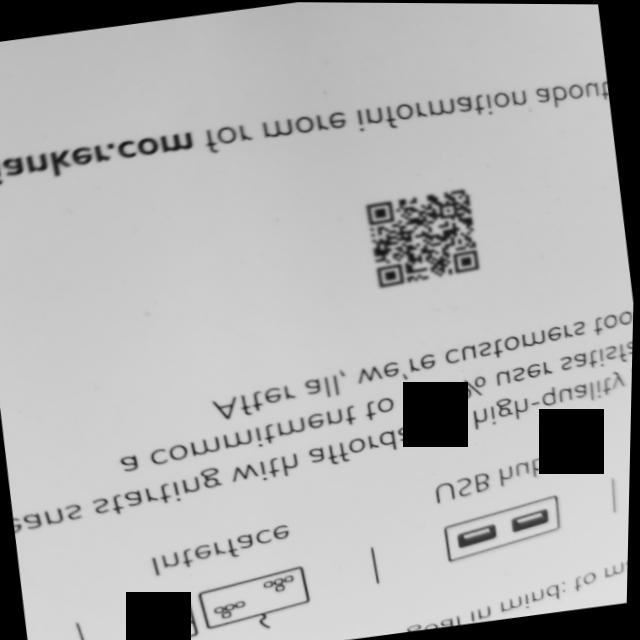QR_CODE: (344, 172, 500, 303)
